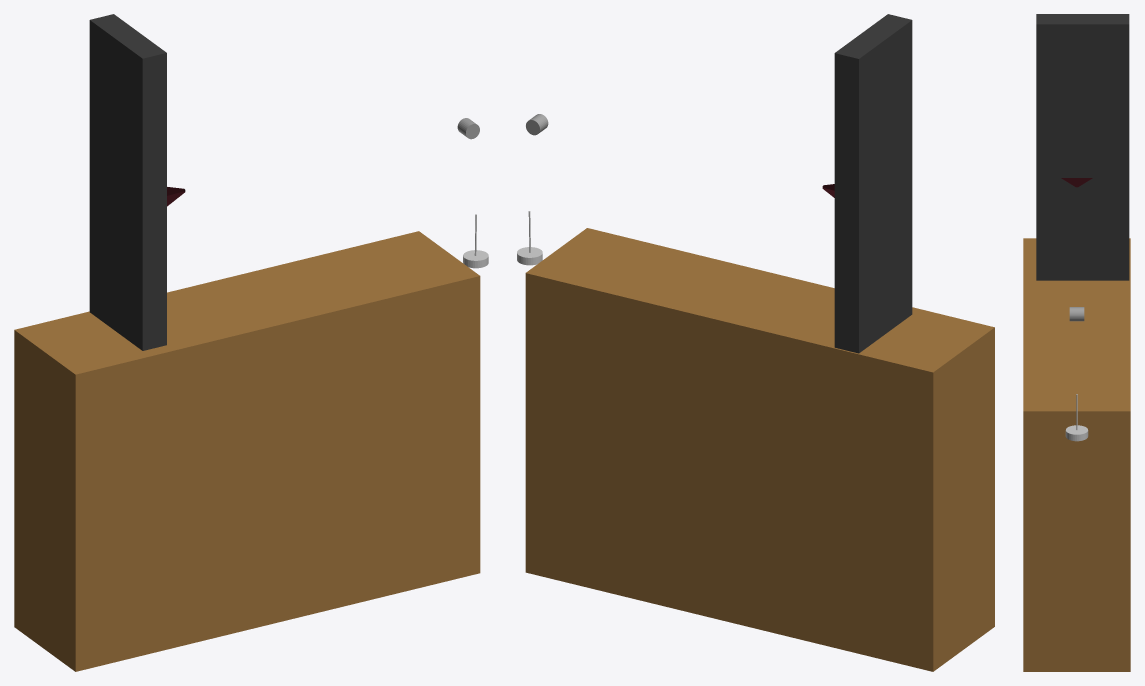
The model's file is string-apparatus.obj.
The picture shows the model from 3 angles, left to right: view 1: azimuth 30°, elevation 25°; view 2: azimuth 150°, elevation 25°; view 3: azimuth 270°, elevation 25°; orthographic projection. The views are drawn at different scales.
Visible parts, largest first — view 1: Cube_desk, Cube.001_stand; view 2: Cube_desk, Cube.001_stand; view 3: Cube_desk, Cube.001_stand, Cylinder.001_Cylinder, Cylinder_wheel.
Boxes of the visible parts, x1,y1,x2,y2 form: Cube_desk: (14,231,480,671); Cube.001_stand: (89,14,166,350); Cube_desk: (525,228,994,671); Cube.001_stand: (834,14,912,353); Cube_desk: (1023,238,1130,671); Cube.001_stand: (1036,14,1129,280); Cylinder.001_Cylinder: (1065,394,1088,441); Cylinder_wheel: (1069,307,1084,321).
Size of the model in its own units: 3.11 by 3.97 by 0.7472.
